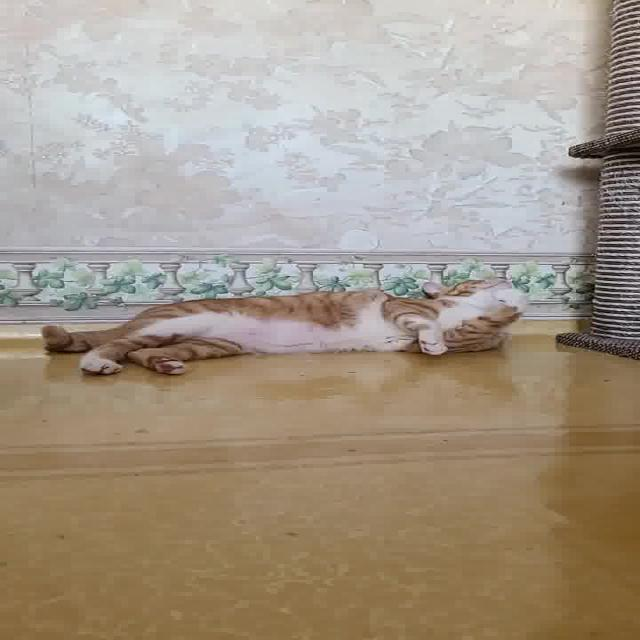cat: (19, 253, 572, 389)
